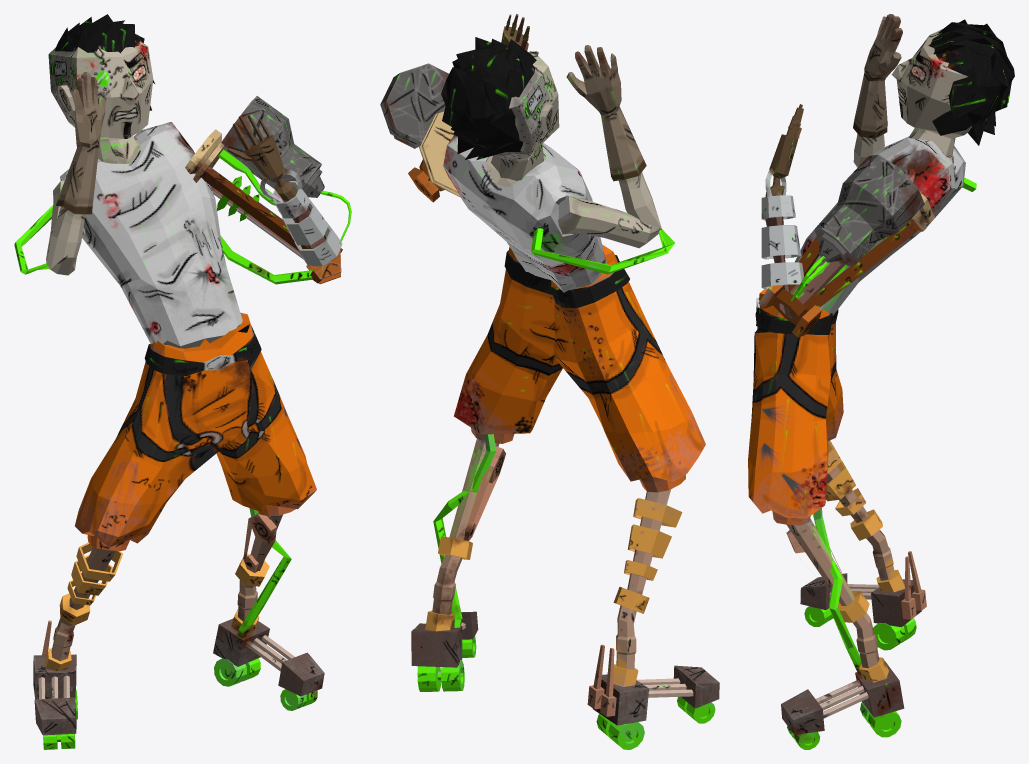
Rendered from CyborgFINALAnimation_000016.obj.
3 views of the same model, side by side, from view 1: azimuth 30°, elevation 25°; view 2: azimuth 150°, elevation 25°; view 3: azimuth 270°, elevation 25° (orthographic). The views are drawn at different scales.
Parts seen in each view (by area): view 1: CyborgMesh_Cube.002; view 2: CyborgMesh_Cube.002; view 3: CyborgMesh_Cube.002.
Part boxes in pixels (x1,y1,x2,y2): CyborgMesh_Cube.002: (14, 14, 351, 749); CyborgMesh_Cube.002: (380, 14, 719, 749); CyborgMesh_Cube.002: (748, 14, 1014, 749).
Size of the model in its own units: 4.29 by 8.92 by 3.26.
